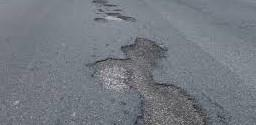pothole: (92, 34, 207, 125), (87, 2, 136, 26)
